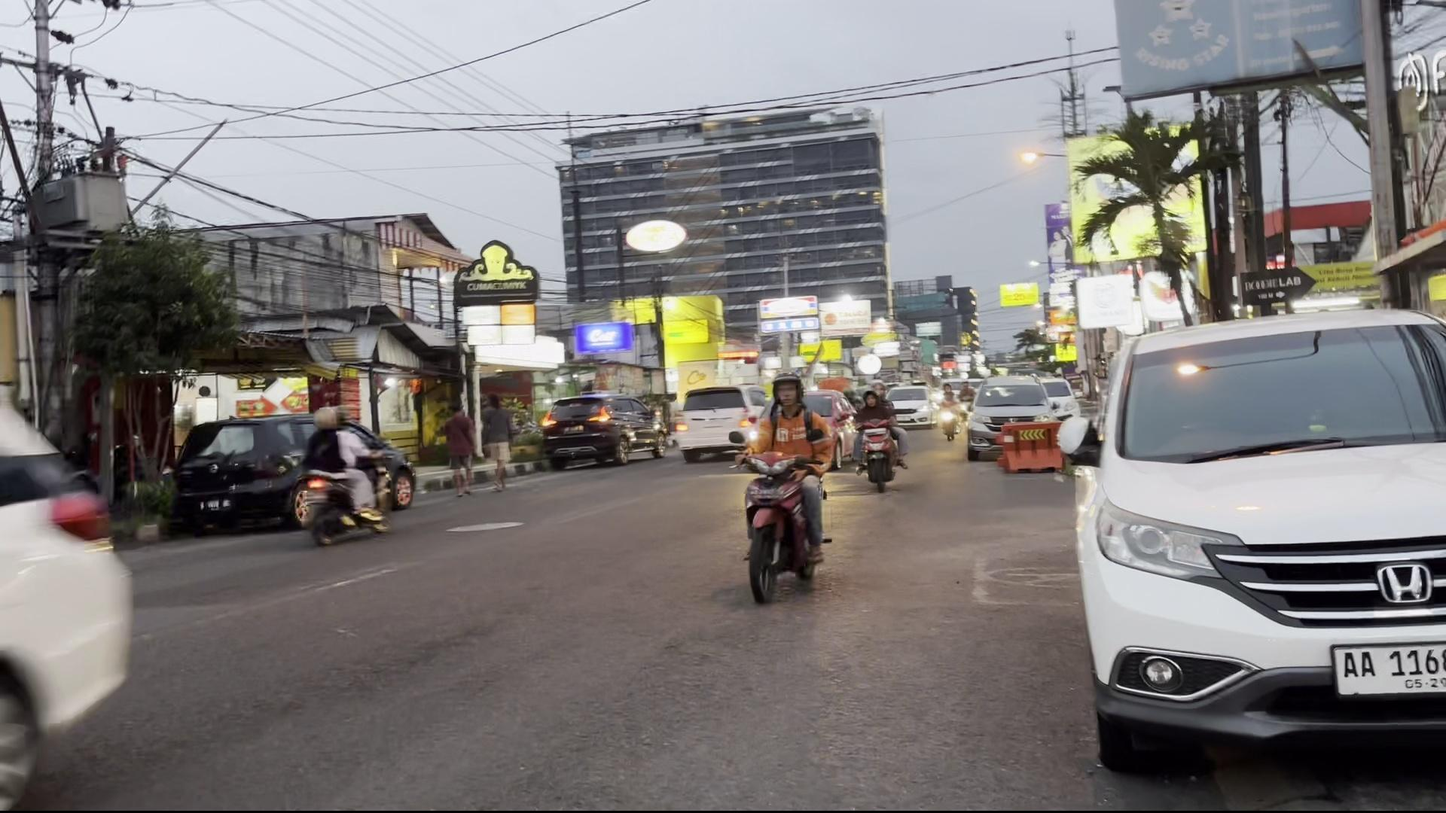helm: (766, 367, 808, 414)
riding: (724, 363, 838, 608)
